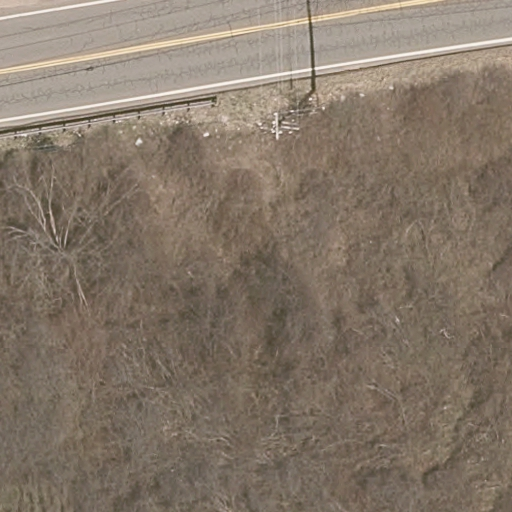DT: (258, 88, 316, 140)
